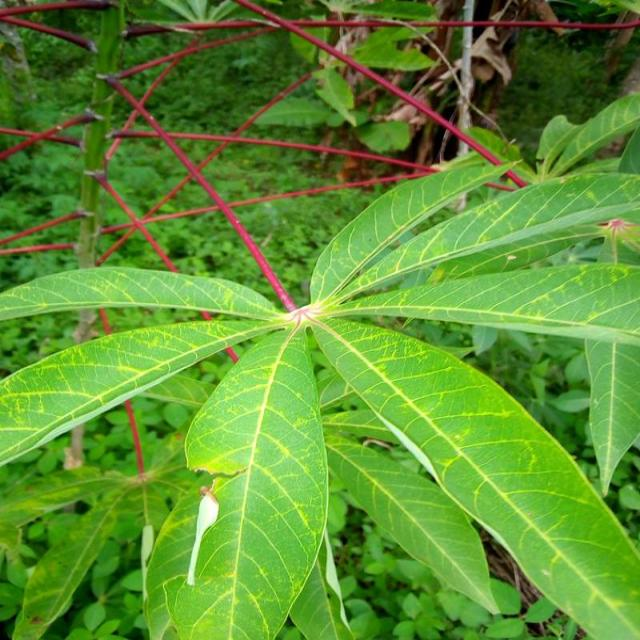cassava leaf: (1, 96, 638, 638), (309, 311, 638, 638), (144, 320, 330, 638)
